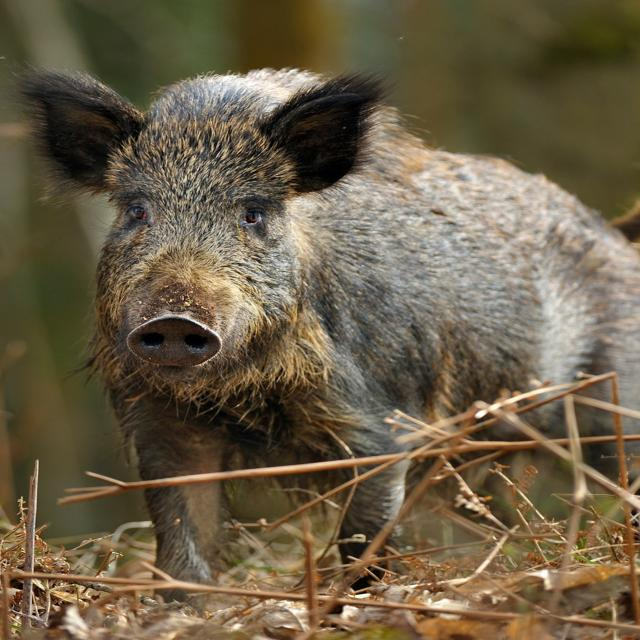Boar: (26, 69, 640, 582)
